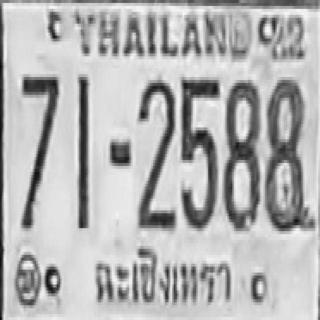N01: (76, 72, 88, 230)
N02: (137, 76, 175, 226)
N05: (179, 74, 218, 228)
N07: (20, 73, 58, 227)
N08: (264, 78, 310, 230), (223, 77, 259, 228)
P07: (86, 240, 239, 314)
